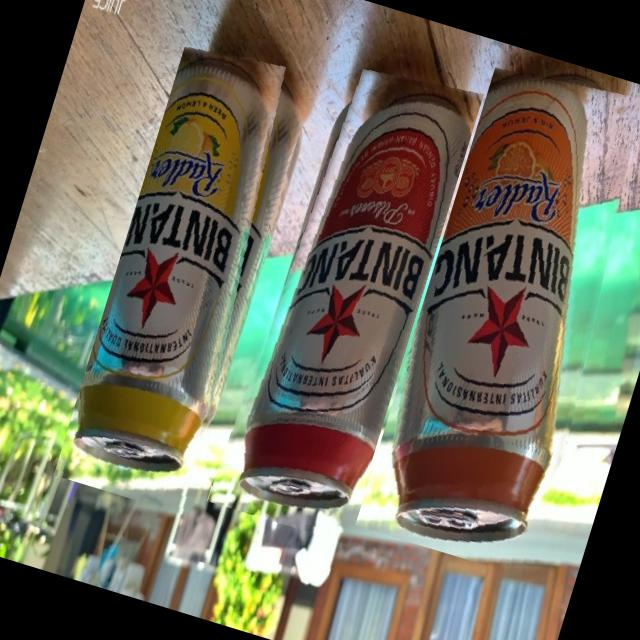Cans: (353, 53, 640, 579), (204, 48, 483, 542), (52, 36, 320, 514)
